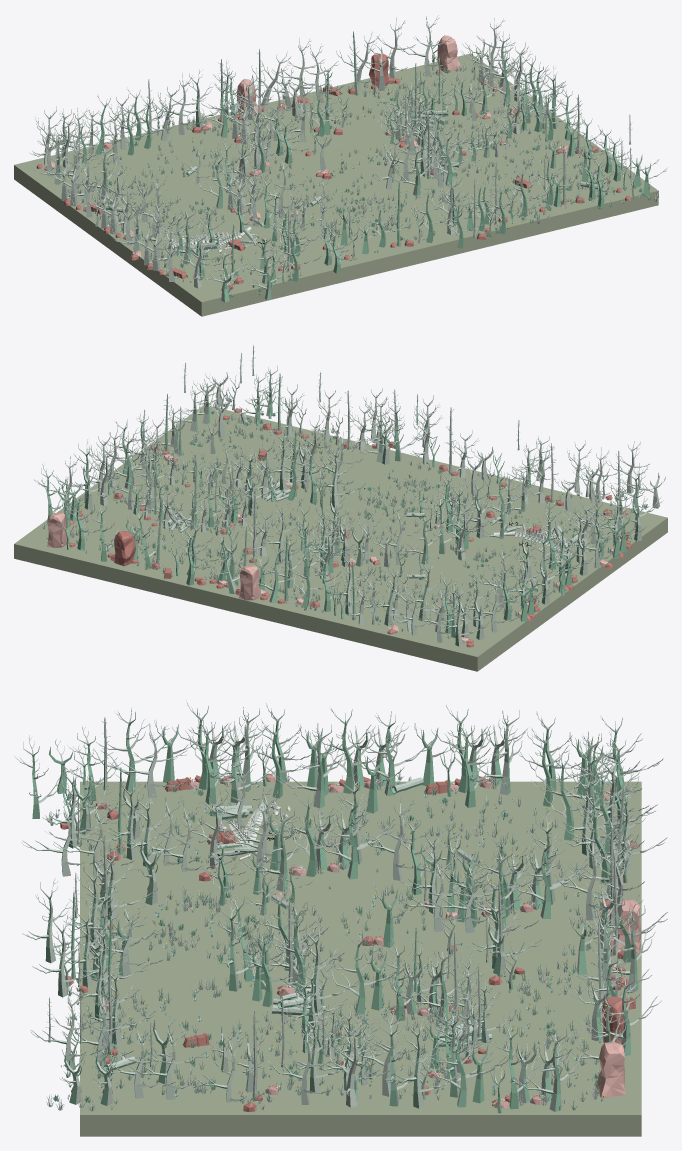
The model's file is Level_3_Otherworld.fbx.
3 views of the same model, one above another, from view 1: azimuth 30°, elevation 25°; view 2: azimuth 150°, elevation 25°; view 3: azimuth 270°, elevation 25° (orthographic). The views are drawn at different scales.
Parts seen in each view (by area): view 1: BG_Cube.017, BigRock1.009, Tree2_1.469, BigRock2.018; view 2: BG_Cube.017, BigRock1.007, BigRock2.018, BigRock1.009; view 3: BG_Cube.017, BigRock1.009, Tree2_1.431, Tree2_1.388, Tree2_1.367, Tree2_1.429, Tree2_1.396, Tree2_1.387, Tree2_1.421, Tree2_1.414, Tree2_1.430, Tree2_1.455 (+57 smaller).
Boxes of the visible parts, <box> form: BG_Cube.017: <box>14,53,658,316</box>; BigRock1.009: <box>437,35,461,73</box>; Tree2_1.469: <box>387,143,439,195</box>; BigRock2.018: <box>369,54,388,87</box>; BG_Cube.017: <box>14,405,667,671</box>; BigRock1.007: <box>239,565,260,600</box>; BigRock2.018: <box>114,531,135,566</box>; BigRock1.009: <box>47,513,66,547</box>; BG_Cube.017: <box>80,781,641,1136</box>; BigRock1.009: <box>596,1042,625,1098</box>; Tree2_1.431: <box>511,1026,589,1111</box>; Tree2_1.388: <box>314,794,395,879</box>; Tree2_1.367: <box>276,723,345,808</box>; Tree2_1.429: <box>386,1014,461,1108</box>; Tree2_1.396: <box>507,834,588,918</box>; Tree2_1.387: <box>238,806,308,891</box>; Tree2_1.421: <box>531,750,611,840</box>; Tree2_1.414: <box>580,971,661,1056</box>; Tree2_1.430: <box>425,1022,506,1107</box>; Tree2_1.455: <box>322,1016,375,1107</box>.
Bounding box in the file's own units: 11852 × 1817 × 9086.
